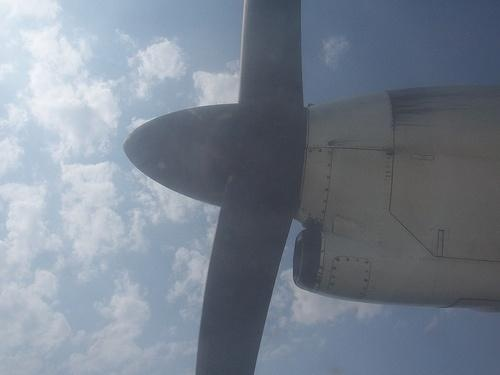aeroplane: (123, 2, 500, 375)
